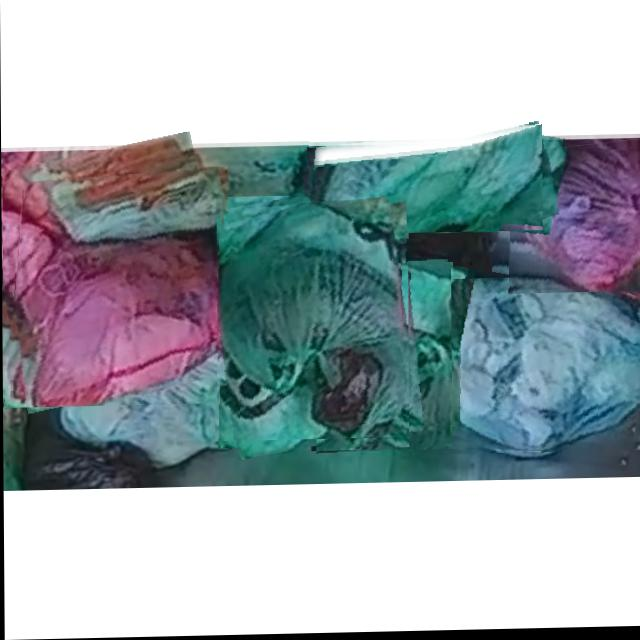general_trashbag: (217, 203, 407, 440), (309, 126, 542, 235), (317, 267, 450, 452)
other_trashbag: (11, 178, 228, 407), (422, 280, 640, 454), (509, 147, 640, 294)
